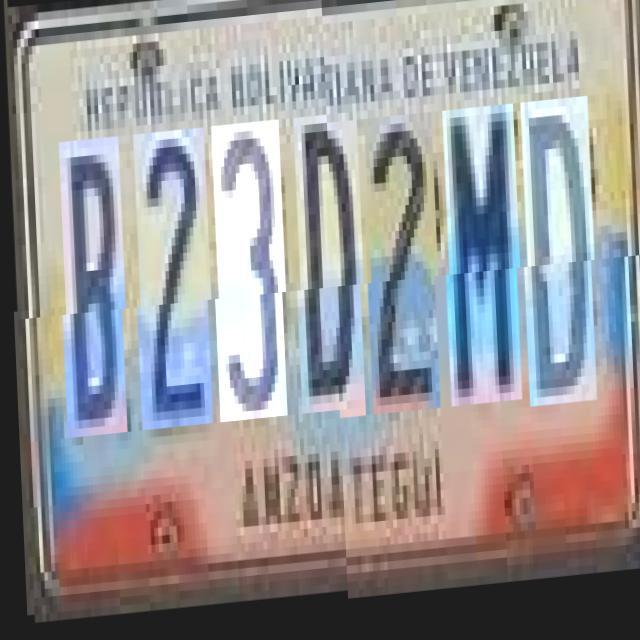2: (132, 132, 213, 433), (362, 113, 440, 414)
3: (210, 126, 287, 427)
B: (58, 139, 128, 439)
D: (518, 100, 596, 410), (292, 119, 366, 420)
M: (441, 106, 522, 408)
